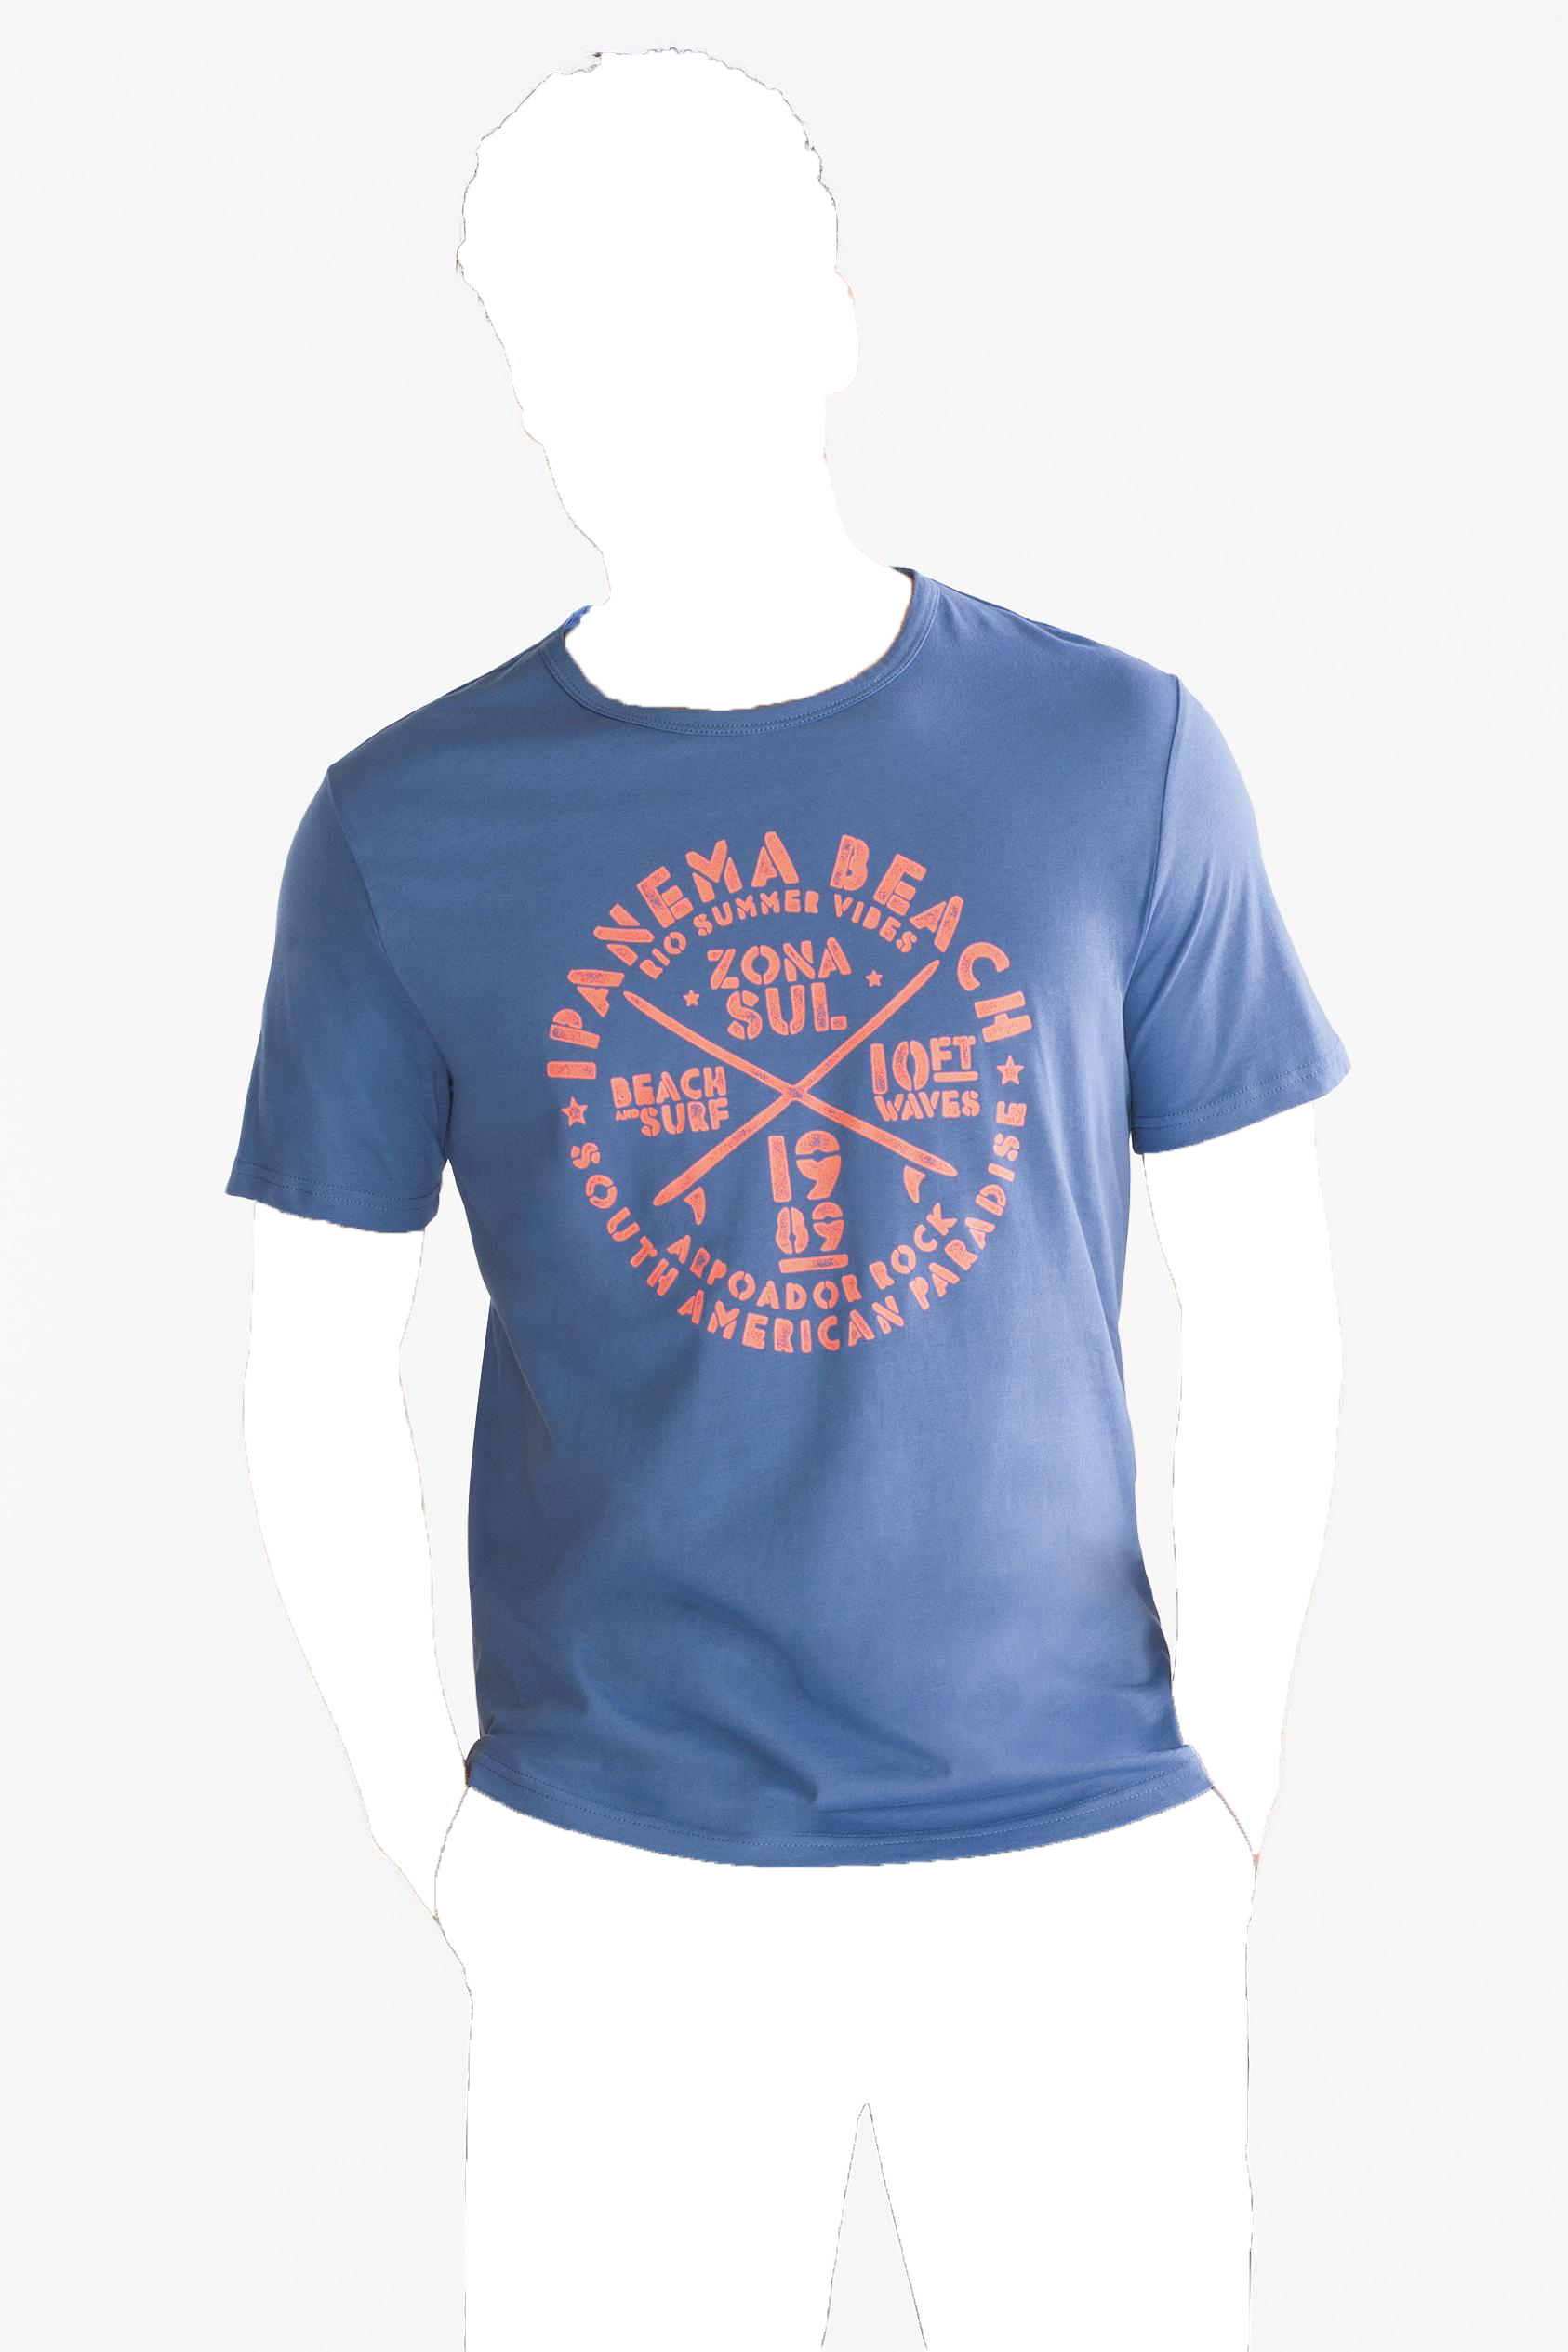teeshirt: (224, 560, 1365, 1902)
